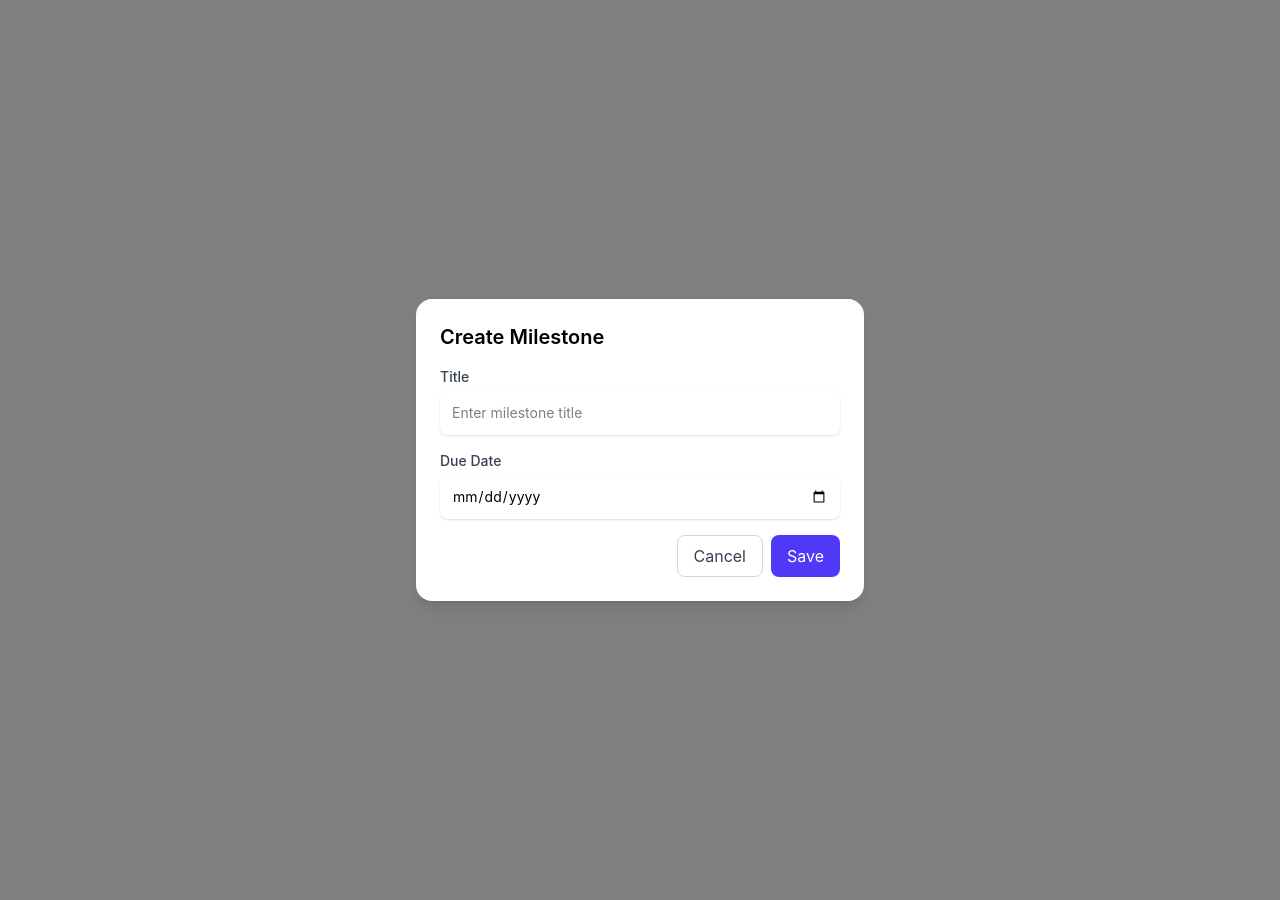
Test case: UpsertMilestoneModal › validates title field is required
The image size is (1280, 900).
Type "2025-12-31" into the date field labelled "Due Date" at [640, 497], box [440,475,840,519]
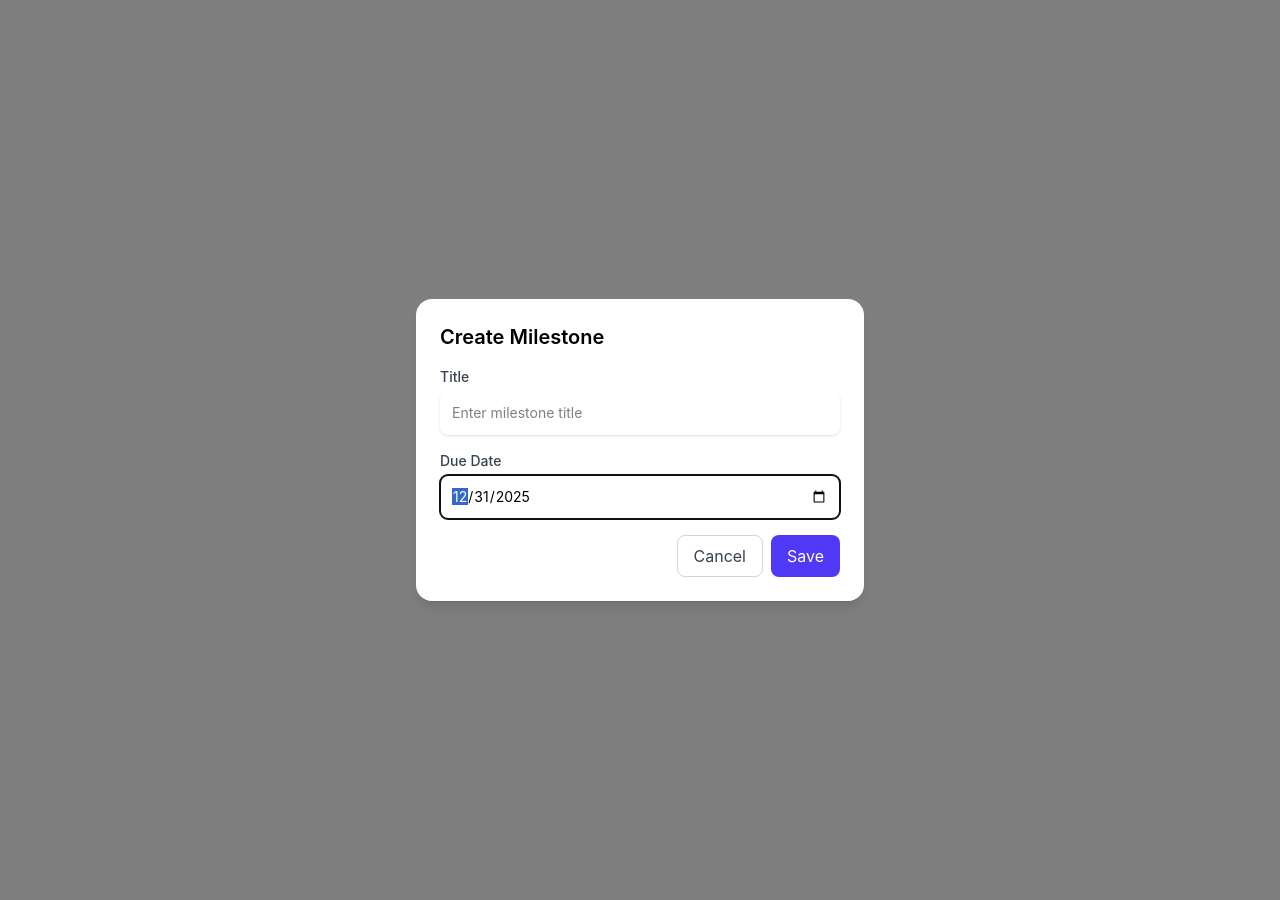
Click the button "Save" at [806, 556], box [771,535,840,577]
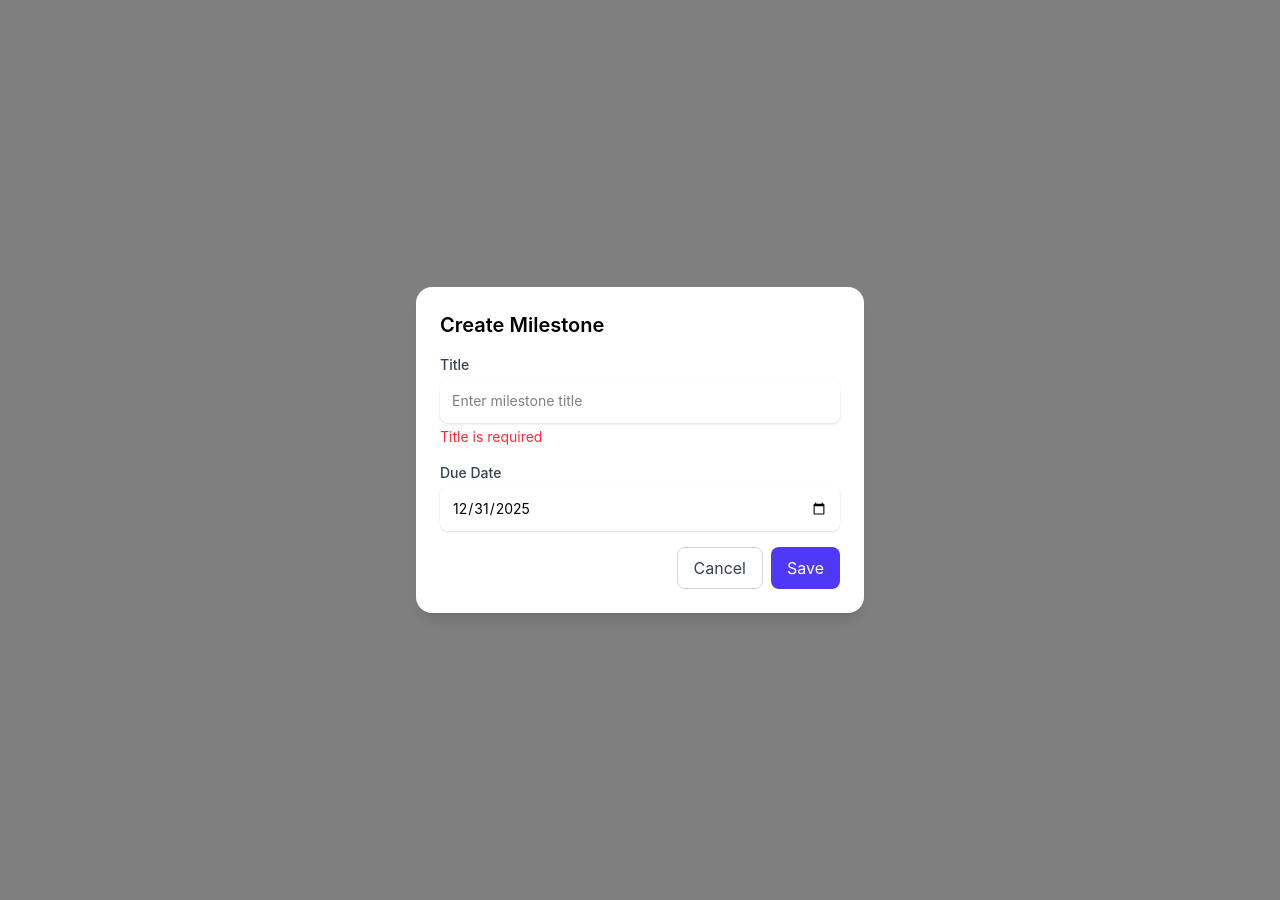
Result: the text "Title is required" is shown at [440,428,542,445]
